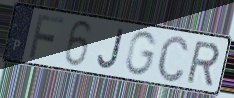6: (62, 18, 95, 68)
C: (155, 33, 191, 84)
F: (27, 12, 67, 61)
G: (124, 30, 159, 78)
J: (96, 27, 126, 70)
R: (185, 40, 221, 88)
